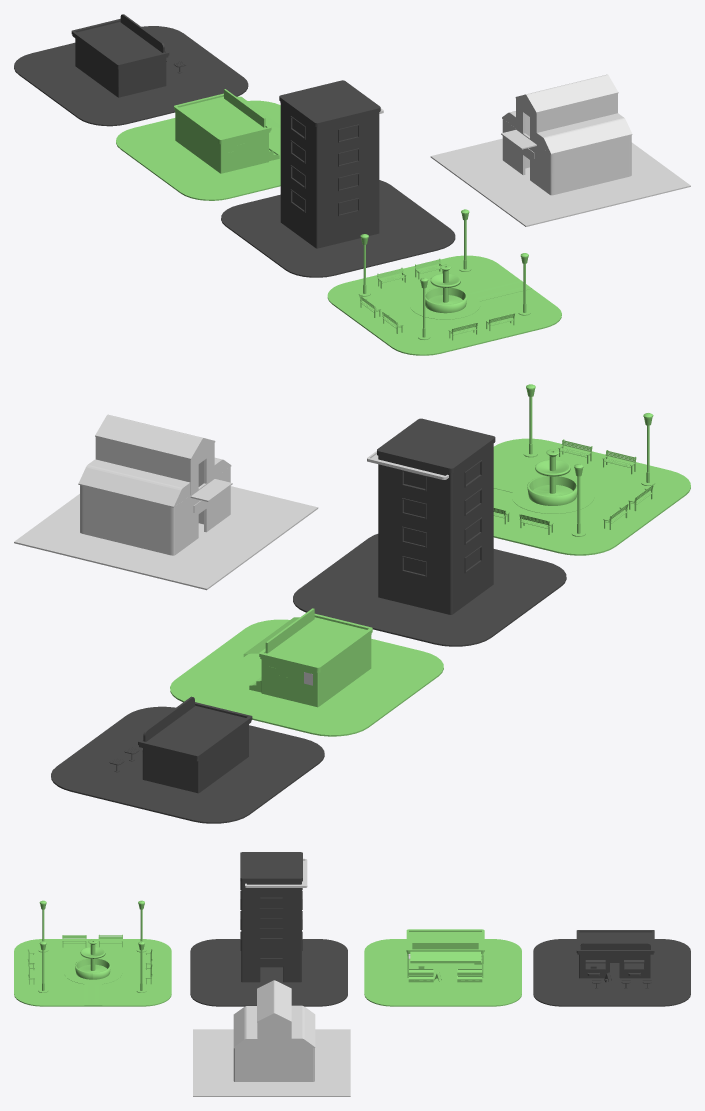
File: parchito2.fbx
The picture shows the model from 3 angles, top to bottom: view 1: azimuth 30°, elevation 25°; view 2: azimuth 150°, elevation 25°; view 3: azimuth 270°, elevation 25°; orthographic projection. The views are drawn at different scales.
Visible parts, largest first — view 1: Cube.008, banco.003, Cube.006, Cube.067, Cube.014, Cube.020, Cube.082, Cube.083; view 2: Cube.008, Cube.006, Cube.067, banco.003, Cube.014, Cube.020, Cube.027, Cube.083; view 3: Cube.008, Cube.067, Cube.006, banco.003, Cube.014, Cube.020, Cube.083, Cube.027, Cube.082.
Part boxes in pixels (box(x1,y1,x2,y2)): Cube.008: box(221, 80, 455, 277); banco.003: box(327, 209, 561, 355); Cube.006: box(14, 14, 248, 126); Cube.067: box(116, 89, 280, 200); Cube.014: box(430, 138, 690, 226); Cube.020: box(502, 93, 631, 195); Cube.082: box(536, 113, 632, 154); Cube.083: box(515, 74, 618, 113); Cube.008: box(293, 418, 566, 646); Cube.006: box(51, 696, 324, 823); Cube.067: box(170, 608, 443, 736); banco.003: box(493, 384, 690, 555); Cube.014: box(14, 486, 318, 590); Cube.020: box(80, 437, 230, 555); Cube.027: box(78, 459, 190, 507); Cube.083: box(95, 414, 215, 459); Cube.008: box(190, 852, 347, 1006); Cube.067: box(364, 929, 521, 1006); Cube.006: box(533, 930, 690, 1006); banco.003: box(14, 900, 171, 1006); Cube.014: box(193, 1029, 350, 1096); Cube.020: box(233, 1022, 314, 1081); Cube.083: box(257, 980, 291, 1022); Cube.027: box(291, 1005, 315, 1047); Cube.082: box(233, 1006, 257, 1048).
Bounding box in the file's own units: 10247 × 3198 × 18648.
